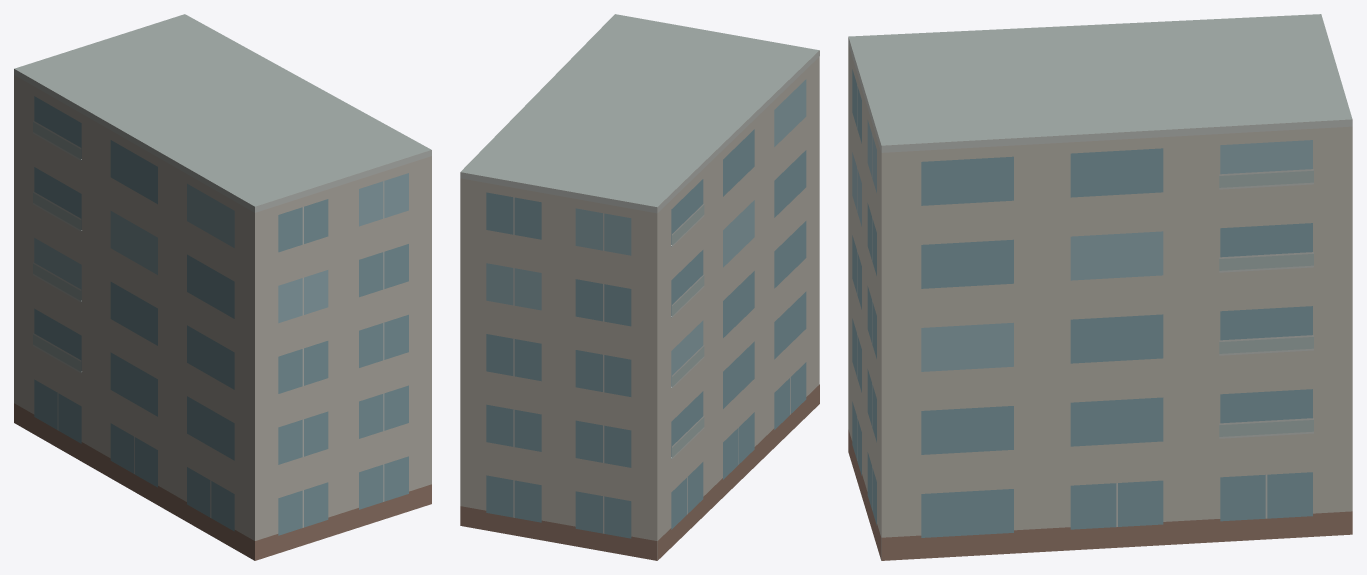
Rendered from survey-upis-32621063.glb.
3 views of the same model, side by side, from view 1: azimuth 30°, elevation 25°; view 2: azimuth 150°, elevation 25°; view 3: azimuth 270°, elevation 25° (orthographic). The views are drawn at different scales.
Visible parts, largest first — view 1: survey-upis-32621063.tmp; view 2: survey-upis-32621063.tmp; view 3: survey-upis-32621063.tmp.
Boxes of the visible parts, box(x1,y1,x2,y2) form: survey-upis-32621063.tmp: box(14, 14, 431, 560); survey-upis-32621063.tmp: box(460, 14, 819, 560); survey-upis-32621063.tmp: box(848, 14, 1352, 560).
Bounding box in the file's own units: 9.53 × 14 × 15.42.
